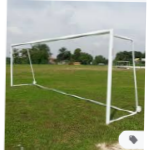goals: (9, 30, 139, 124)
